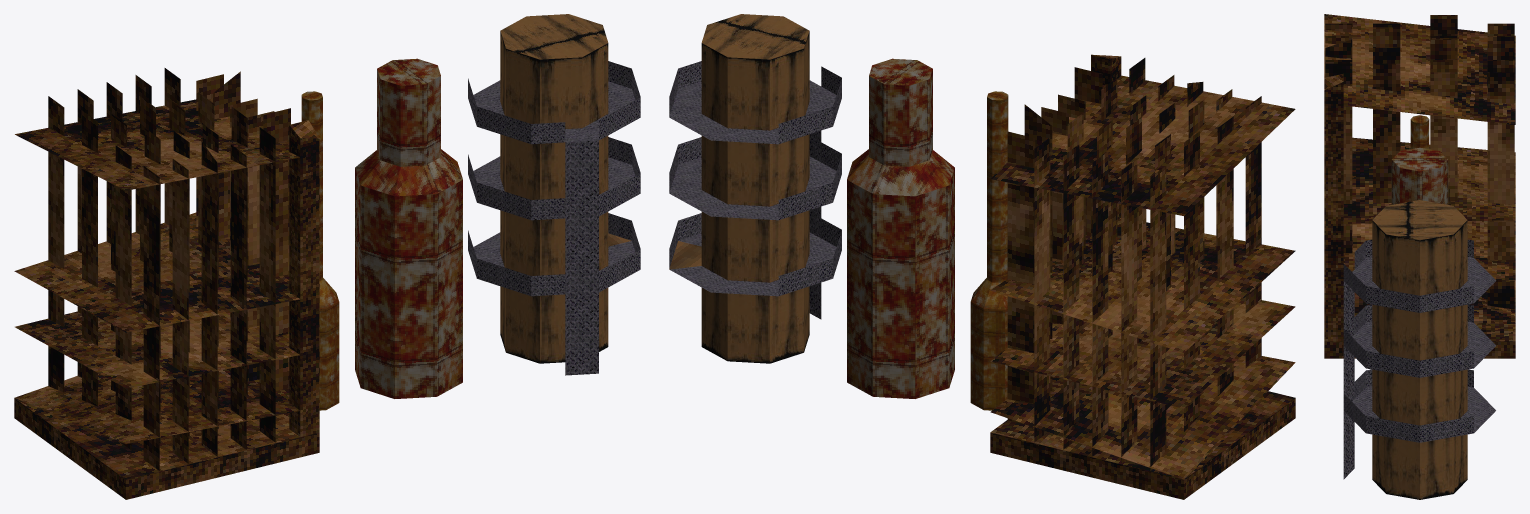
File: skybox_objects.glb
The picture shows the model from 3 angles, left to right: view 1: azimuth 30°, elevation 25°; view 2: azimuth 150°, elevation 25°; view 3: azimuth 270°, elevation 25°; orthographic projection. The views are drawn at different scales.
Visible parts, largest first — view 1: building-destroyed, Cylinder, silo01, Cylinder.001; view 2: building-destroyed, Cylinder, silo01, Cylinder.001; view 3: building-destroyed, Cylinder, silo01, Cylinder.001.
Part boxes in pixels (<box>): building-destroyed: <box>14,68,319,499</box>; Cylinder: <box>468,14,640,375</box>; silo01: <box>355,58,462,398</box>; Cylinder.001: <box>301,91,339,410</box>; building-destroyed: <box>990,54,1295,499</box>; Cylinder: <box>669,14,841,363</box>; silo01: <box>847,58,954,398</box>; Cylinder.001: <box>970,91,1008,410</box>; building-destroyed: <box>1324,14,1515,358</box>; Cylinder: <box>1343,200,1496,499</box>; silo01: <box>1391,147,1448,204</box>; Cylinder.001: <box>1410,115,1429,148</box>.
Bounding box in the file's own units: 58 × 32 × 20.
5 materials, 5 textured.
